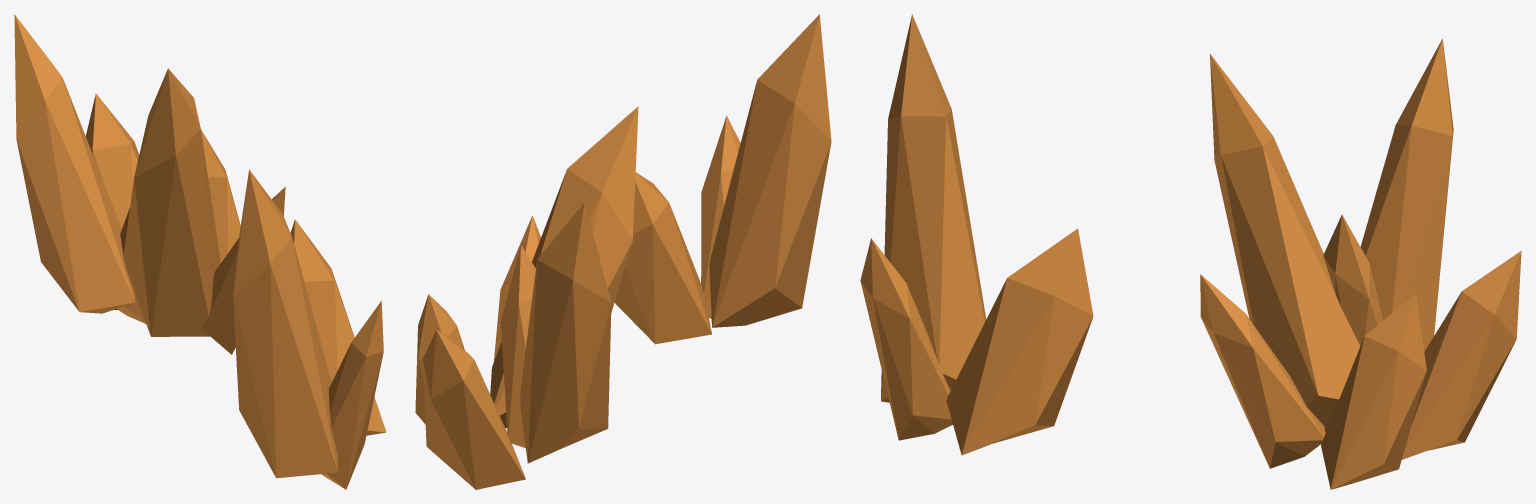
Rendered from SARKIT.fbx.
3 renders of one model, left to right at view 1: azimuth 30°, elevation 25°; view 2: azimuth 150°, elevation 25°; view 3: azimuth 270°, elevation 25°, orthographic. The views are drawn at different scales.
Parts seen in each view (by area): view 1: SARKIT_01, SARKIT_02; view 2: SARKIT_01, SARKIT_02; view 3: SARKIT_01, SARKIT_02.
Boxes of the visible parts, <box> form: SARKIT_01: <box>14,14,285,354</box>; SARKIT_02: <box>233,169,386,489</box>; SARKIT_01: <box>415,106,638,489</box>; SARKIT_02: <box>614,14,831,344</box>; SARKIT_01: <box>1200,38,1521,489</box>; SARKIT_02: <box>860,14,1093,455</box>.
Bounding box in the file's own units: 308 × 458 × 727.
